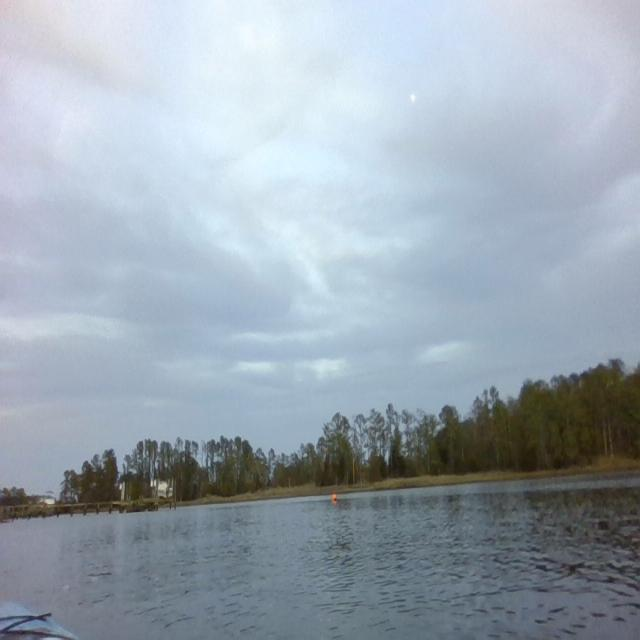Buoy: (331, 490, 338, 504)
